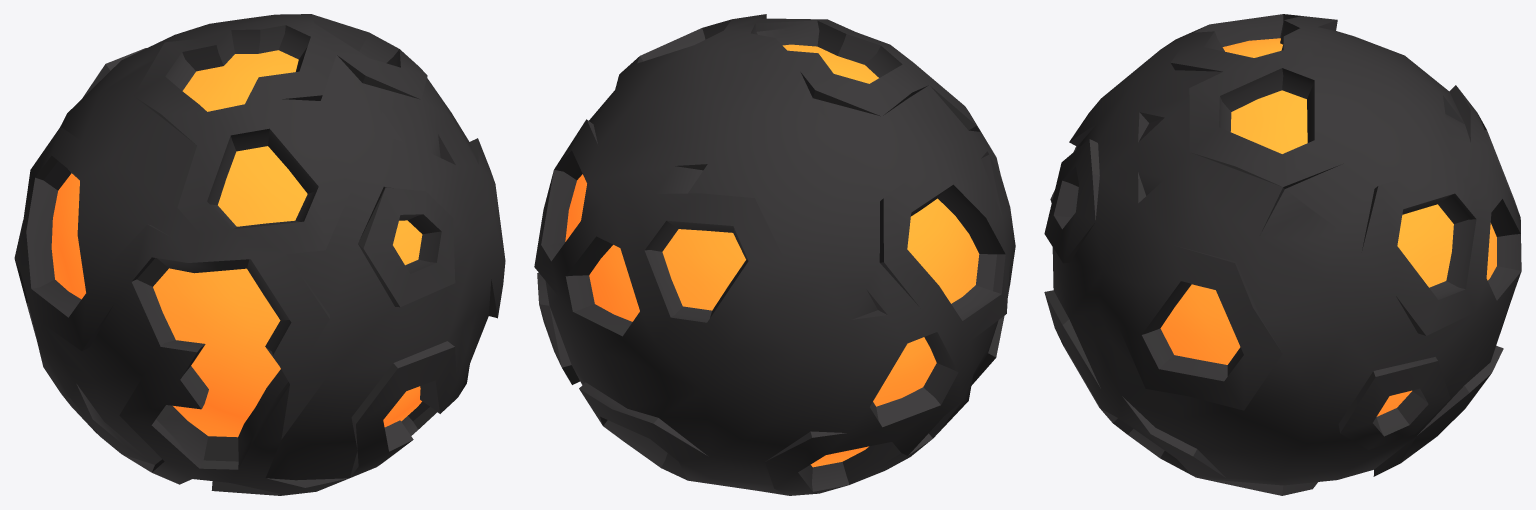
File: planet-14.glb
3 views of the same model, side by side, from view 1: azimuth 30°, elevation 25°; view 2: azimuth 150°, elevation 25°; view 3: azimuth 270°, elevation 25° (orthographic). The views are drawn at different scales.
Parts seen in each view (by area): view 1: Toy_Planet_7_Toy_Planets_0; view 2: Toy_Planet_7_Toy_Planets_0; view 3: Toy_Planet_7_Toy_Planets_0.
Boxes of the visible parts, bbox=[...] form: Toy_Planet_7_Toy_Planets_0: bbox=[14, 14, 505, 495]; Toy_Planet_7_Toy_Planets_0: bbox=[534, 14, 1015, 495]; Toy_Planet_7_Toy_Planets_0: bbox=[1044, 14, 1521, 495].
Size of the model in its own units: 2.06 by 2.07 by 2.06.
1 material, 1 textured.
